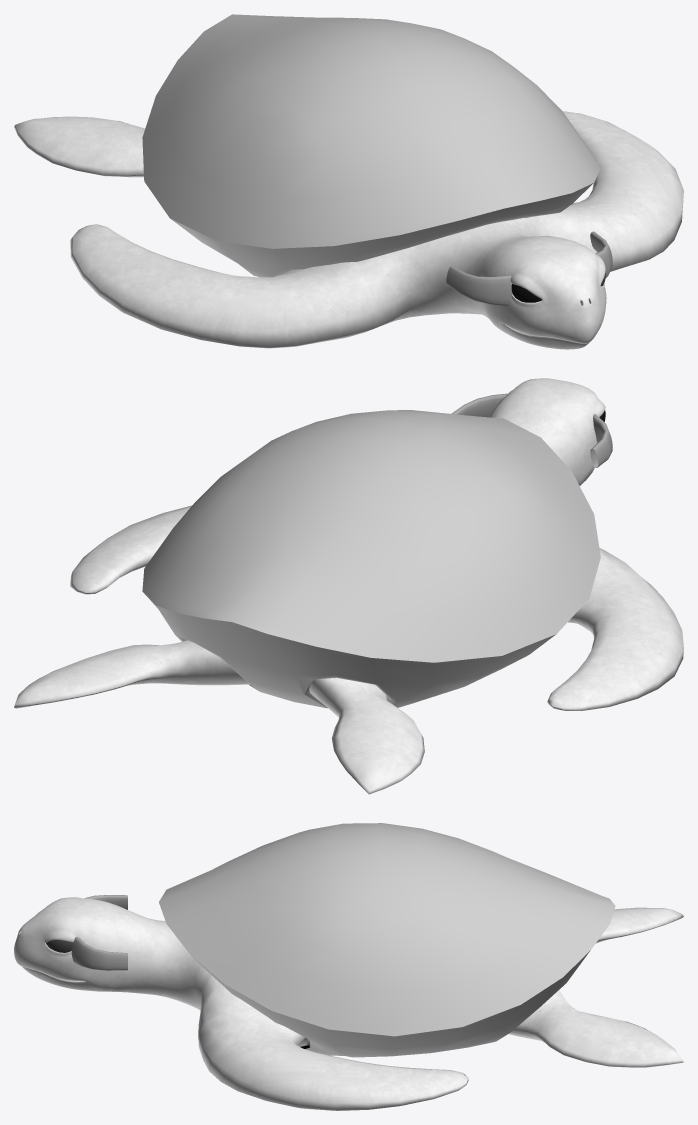
Rendered from RubyJohnsonTurtle.fbx.
3 renders of one model, top to bottom at view 1: azimuth 30°, elevation 25°; view 2: azimuth 150°, elevation 25°; view 3: azimuth 270°, elevation 25°, orthographic. The views are drawn at different scales.
Parts seen in each view (by area): view 1: polySurface1, polySurface4, polySurface2, headband_condense; view 2: polySurface1, polySurface4, polySurface2, polySurface3, headband_condense; view 3: polySurface1, polySurface4, polySurface3, polySurface2, headband_condense.
Boxes of the visible parts, left/top/right/bottom form: polySurface1: left=142, top=14, right=600, bottom=277; polySurface4: left=70, top=111, right=683, bottom=349; polySurface2: left=14, top=116, right=144, bottom=177; headband_condense: left=446, top=231, right=612, bottom=306; polySurface1: left=142, top=410, right=600, bottom=708; polySurface4: left=70, top=378, right=683, bottom=710; polySurface2: left=309, top=677, right=424, bottom=794; polySurface3: left=14, top=640, right=249, bottom=708; headband_condense: left=451, top=393, right=612, bottom=467; polySurface1: left=159, top=823, right=615, bottom=1057; polySurface4: left=14, top=897, right=468, bottom=1110; polySurface3: left=509, top=990, right=683, bottom=1067; polySurface2: left=596, top=907, right=683, bottom=943; headband_condense: left=71, top=895, right=127, bottom=970.
Size of the model in its own units: 11.44 by 4.67 by 14.12.
